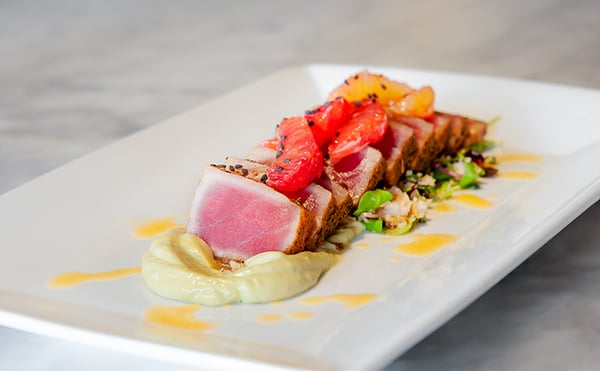curry: (13, 0, 600, 364)
